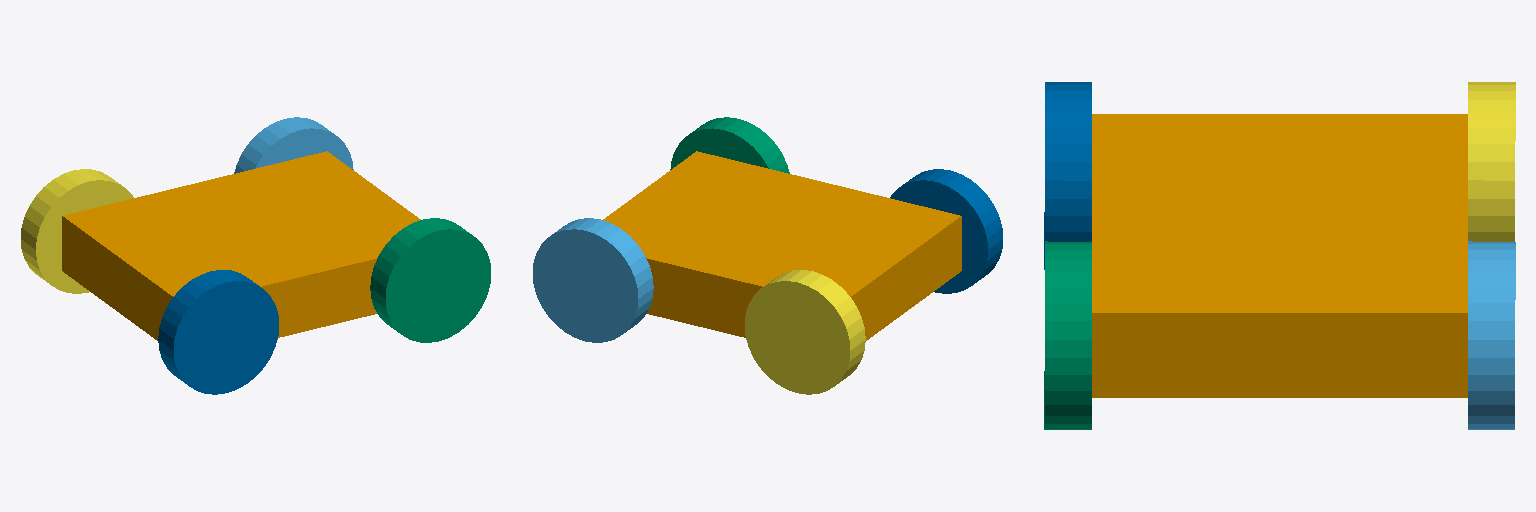
robot.urdf — my_car:
<?xml version="1.0"?>
<robot name="my_car">

    <link name="base_link">
        <visual>
            <origin xyz="0.0 0.0 0.1" rpy="0.0 0.0 0.0"/>
            <geometry>
                <box size="0.5 0.4 0.1"/>
            </geometry>
        </visual>
    </link>

    <link name="wheel_1">
        <visual>
            <origin xyz="0.0 0.0 0.0" rpy="1.57 0.0 0.0"/>
            
            <geometry>
                <cylinder radius="0.1" length="0.05"/>
            </geometry>
        </visual>
    </link>

    <joint name="joint_1" type="continuous">
        <parent link="base_link"/>
        <child link="wheel_1"/>
        <axis xyz="0 0 1"/>
        <origin xyz="0.20 0.225 0.1" rpy="0 0 0"/>
    </joint>
    
    <link name="wheel_2">
        <visual>
            <origin xyz="0.0 0.0 0.0" rpy="1.57 0.0 0.0"/>
            
            <geometry>
                <cylinder radius="0.1" length="0.05"/>
            </geometry>
        </visual>
    </link>

    <joint name="joint_2" type="continuous">
        <parent link="base_link"/>
        <child link="wheel_2"/>
        <axis xyz="0 0 1"/>
        <origin xyz="0.20 -0.225 0.1" rpy="0 0 0"/>
    </joint>
    
    <link name="wheel_3">
        <visual>
            <origin xyz="0.0 0.0 0.0" rpy="1.57 0.0 0.0"/>
            
            <geometry>
                <cylinder radius="0.1" length="0.05"/>
            </geometry>
        </visual>
    </link>

    <joint name="joint_3" type="continuous">
        <parent link="base_link"/>
        <child link="wheel_3"/>
        <axis xyz="0 0 1"/>
        <origin xyz="-0.20 0.225 0.1" rpy="0 0 0"/>
    </joint>
    
    <link name="wheel_4">
        <visual>
            <origin xyz="0.0 0.0 0.0" rpy="1.57 0.0 0.0"/>
            
            <geometry>
                <cylinder radius="0.1" length="0.05"/>
            </geometry>
        </visual>
    </link>

    <joint name="joint_4" type="continuous">
        <parent link="base_link"/>
        <child link="wheel_4"/>
        <axis xyz="0 0 1"/>
        <origin xyz="-0.20 -0.225 0.1" rpy="0 0 0"/>
    </joint>
    

</robot>

--- What the picture shows (computed from the rendered views, not written in the file) ---
The picture shows the robot from 3 angles, left to right: view 1: azimuth 30°, elevation 25°; view 2: azimuth 150°, elevation 25°; view 3: azimuth 270°, elevation 25°; orthographic projection.
Robot: my_car — 5 links, 4 joints (4 continuous); root link base_link; default pose: every joint at zero.
Links seen in each view (by area): view 1: base_link, wheel_4, wheel_2, wheel_3, wheel_1; view 2: base_link, wheel_3, wheel_1, wheel_4, wheel_2; view 3: base_link, wheel_1, wheel_2, wheel_3, wheel_4.
Link boxes in pixels (left/top/right/bottom): base_link: left=62, top=151, right=420, bottom=340; wheel_4: left=158, top=270, right=278, bottom=394; wheel_2: left=370, top=218, right=490, bottom=342; wheel_3: left=21, top=169, right=133, bottom=293; wheel_1: left=234, top=117, right=353, bottom=173; base_link: left=603, top=151, right=961, bottom=340; wheel_3: left=745, top=270, right=865, bottom=394; wheel_1: left=533, top=218, right=653, bottom=342; wheel_4: left=890, top=169, right=1002, bottom=293; wheel_2: left=670, top=117, right=789, bottom=173; base_link: left=1092, top=114, right=1467, bottom=397; wheel_1: left=1468, top=241, right=1515, bottom=429; wheel_2: left=1044, top=241, right=1091, bottom=429; wheel_3: left=1468, top=82, right=1515, bottom=241; wheel_4: left=1044, top=82, right=1091, bottom=269.
Size in the robot's own frame: 0.6 by 0.5002 by 0.2 metres.
Geometry: primitives only (box / cylinder / sphere), no mesh files.